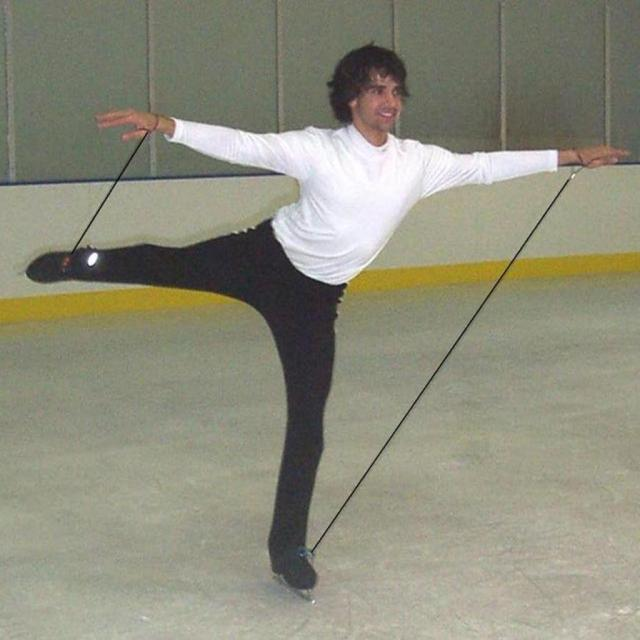nomask: (365, 68, 399, 128)
